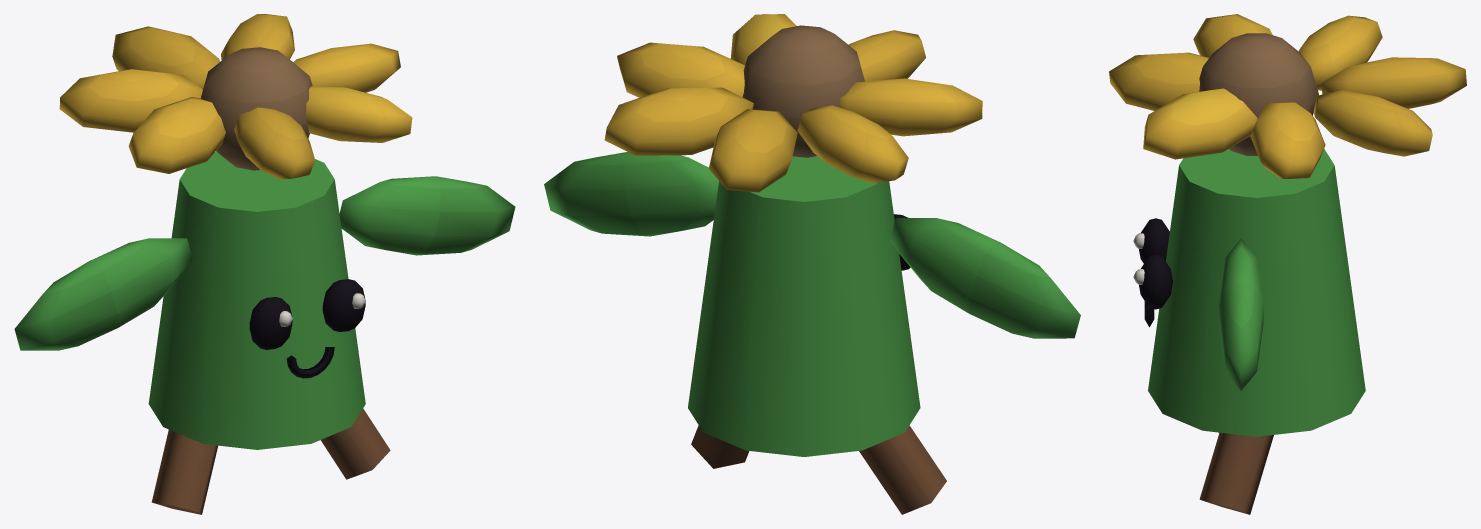
File: monster_sun_flower.glb
The picture shows the model from 3 angles, left to right: view 1: azimuth 30°, elevation 25°; view 2: azimuth 150°, elevation 25°; view 3: azimuth 270°, elevation 25°; orthographic projection. The views are drawn at different scales.
Parts seen in each view (by area): view 1: body_t0_palette, arml_t0_palette, armr_t0_palette, legl_t0_palette, legr_t0_palette; view 2: body_t0_palette, arml_t0_palette, armr_t0_palette, legl_t0_palette, legr_t0_palette; view 3: body_t0_palette, armr_t0_palette, legr_t0_palette.
Part boxes in pixels (x1,y1,x2,y2): body_t0_palette: (59, 14, 412, 449); arml_t0_palette: (14, 238, 192, 350); armr_t0_palette: (339, 176, 515, 255); legl_t0_palette: (151, 429, 217, 514); legr_t0_palette: (321, 408, 390, 479); body_t0_palette: (604, 14, 982, 456); arml_t0_palette: (889, 218, 1080, 338); armr_t0_palette: (544, 152, 718, 236); legl_t0_palette: (859, 425, 946, 514); legr_t0_palette: (691, 425, 749, 468); body_t0_palette: (1109, 14, 1466, 436); armr_t0_palette: (1219, 238, 1263, 390); legr_t0_palette: (1199, 432, 1273, 514).
Bounding box in the file's own units: 0.373 × 0.3075 × 0.23.
